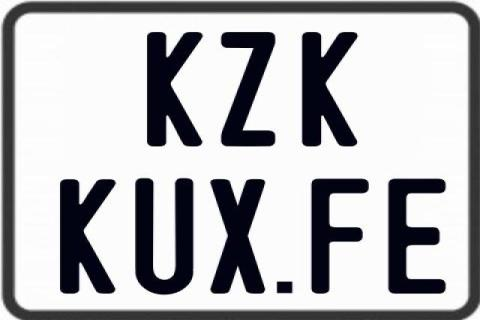E: (387, 177, 449, 296)
F: (310, 176, 371, 292)
K: (147, 30, 207, 148), (302, 29, 360, 145), (59, 178, 117, 294)
U: (134, 177, 192, 297)
X: (210, 177, 265, 293)
Z: (218, 31, 276, 151)
